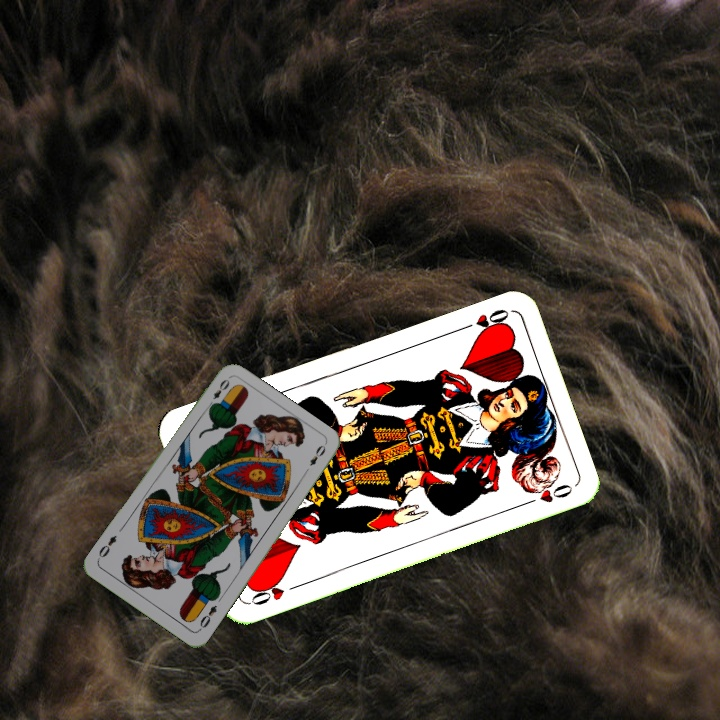EO: (203, 375, 232, 411), (195, 601, 220, 633)
HO: (245, 575, 302, 608), (455, 305, 512, 335)
